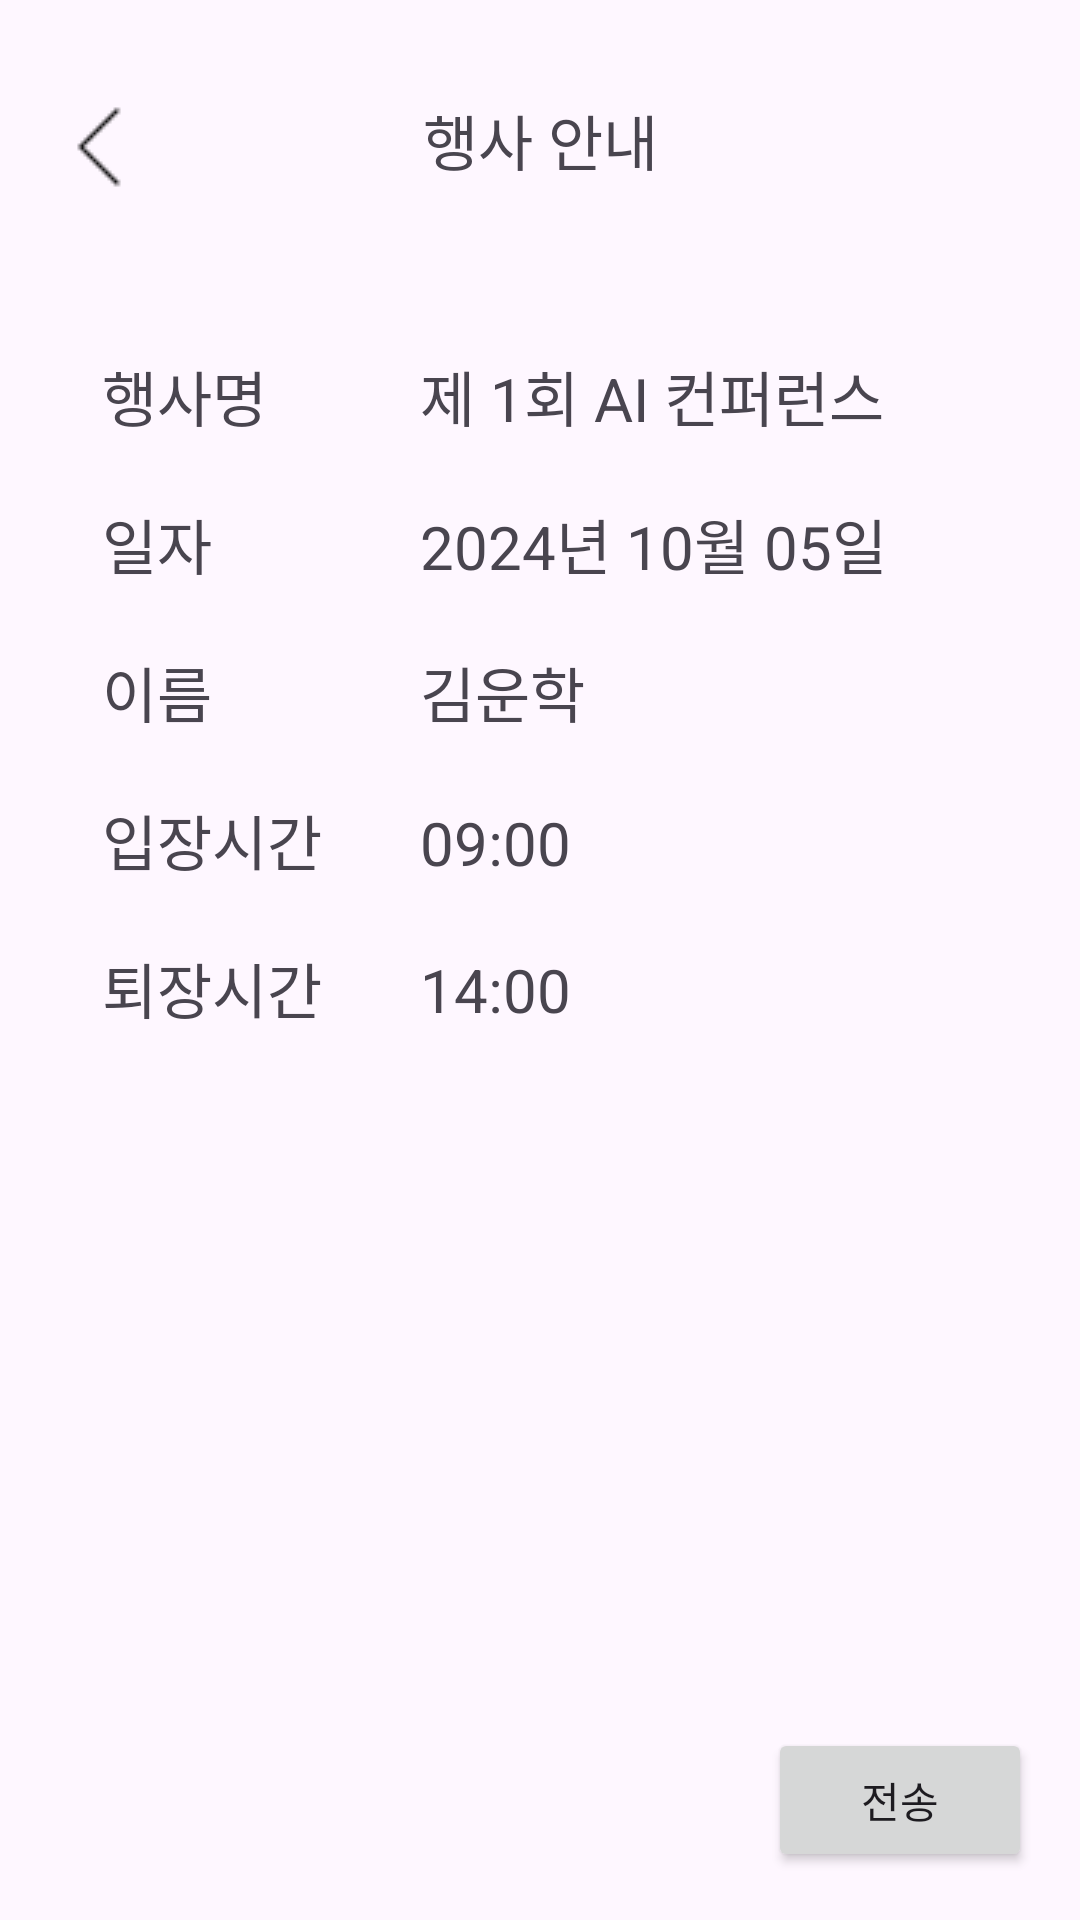

Where icons sit on this 1080w x 1920h app screen, as [x1=x1, y1=y1, x2=x2, y2=y2]:
back: [x1=77, y1=107, x2=121, y2=187]
